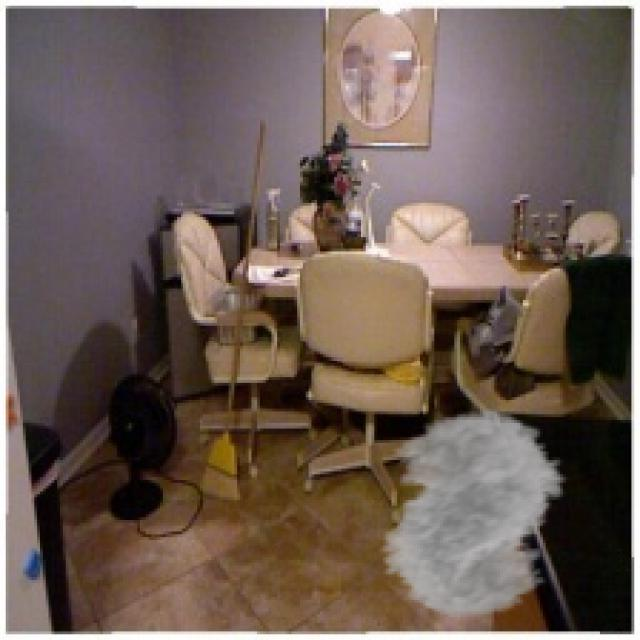smoke: (357, 409, 583, 620)
